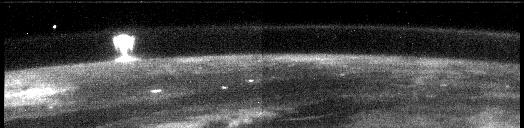positive: (111, 32, 134, 57)
